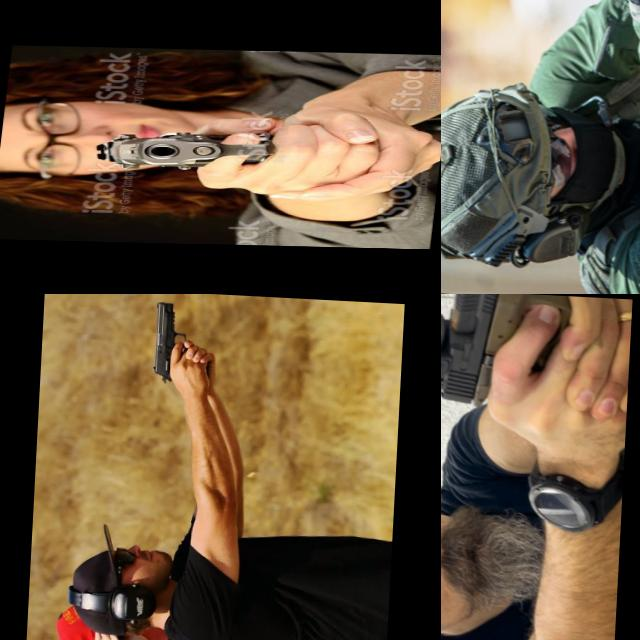handgun: (441, 294, 592, 412), (88, 126, 284, 174), (150, 298, 214, 384), (568, 0, 640, 44)
